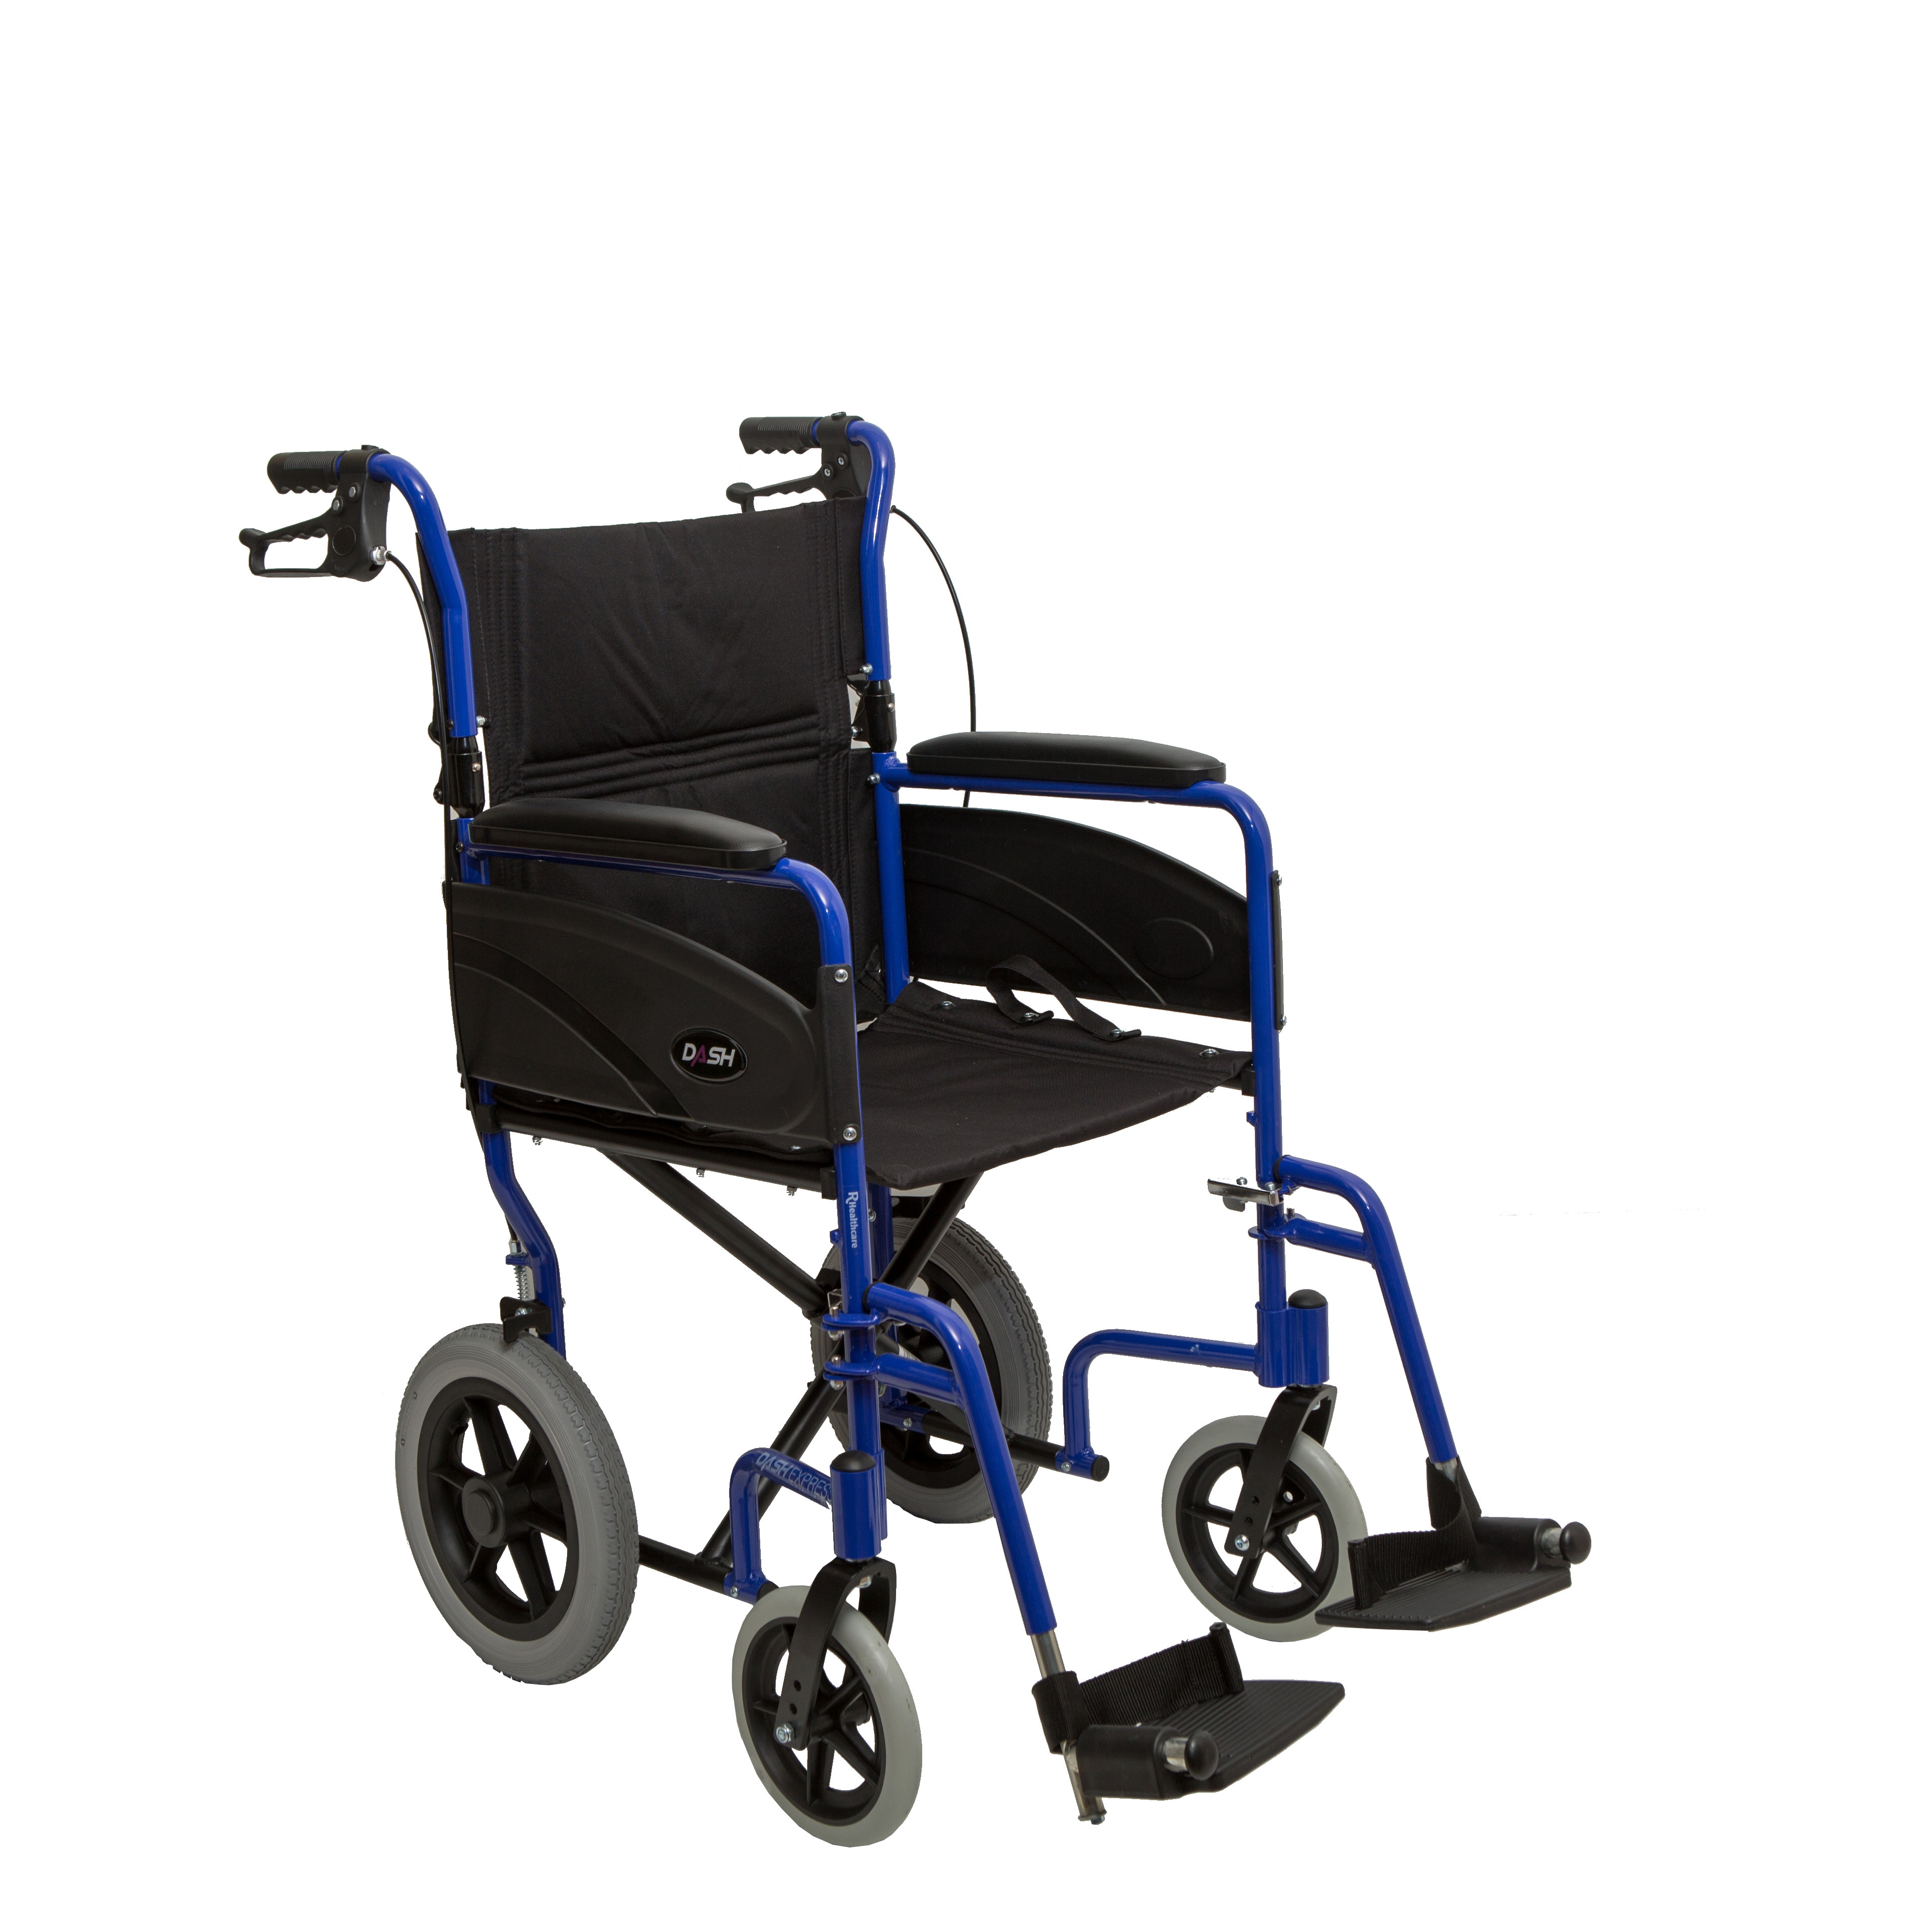wheelchair: (234, 398, 1612, 1836)
